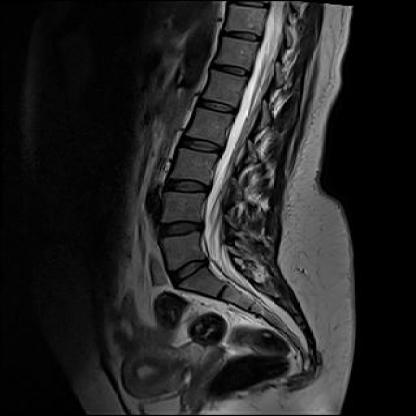Degenerative Disc Diseaserotation: (153, 216, 209, 240)
